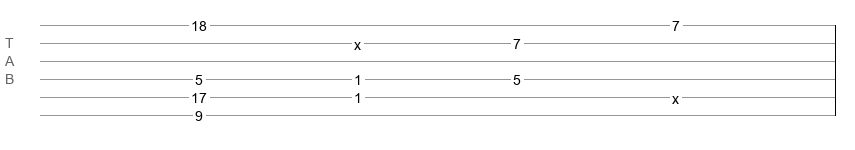1: (354, 72, 362, 82), (354, 90, 362, 100)
17: (191, 90, 207, 100)
18: (191, 18, 207, 28)
5: (195, 72, 203, 82), (513, 72, 521, 82)
7: (513, 36, 521, 46), (672, 18, 680, 28)
9: (195, 108, 203, 118)
x: (354, 37, 361, 45), (672, 91, 679, 99)
